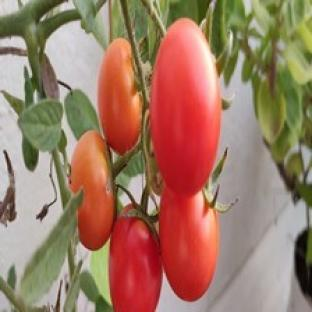Tomato: (151, 19, 221, 194), (159, 189, 218, 300), (109, 205, 161, 311), (70, 131, 115, 250), (98, 38, 142, 154)
